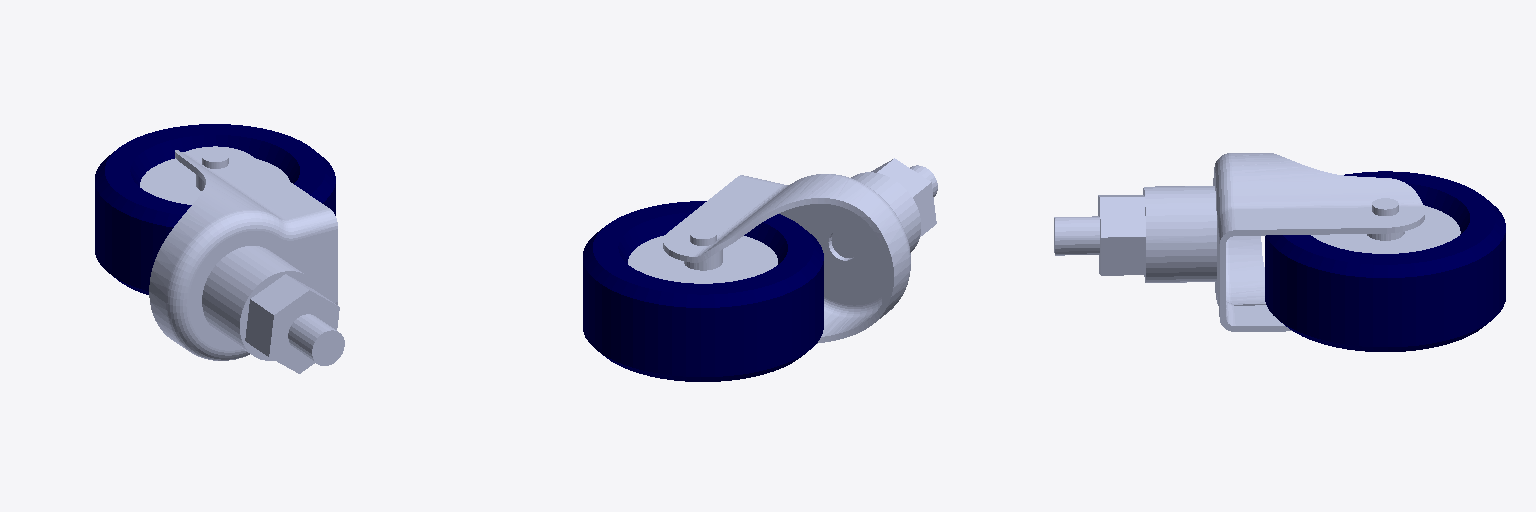
Rendered from caster_wheel.obj.
3 views of the same model, side by side, from view 1: azimuth 30°, elevation 25°; view 2: azimuth 150°, elevation 25°; view 3: azimuth 270°, elevation 25° (orthographic).
Parts seen in each view (by area): view 1: Body_2, _3DGeom_57, Body_1, _3DGeom_58; view 2: _3DGeom_57, Body_2, Body_1, _3DGeom_58; view 3: _3DGeom_57, Body_2, Body_1, _3DGeom_58.
Part boxes in pixels (bbox=[...]): Body_2: bbox=[149, 146, 337, 360]; _3DGeom_57: bbox=[95, 124, 335, 294]; Body_1: bbox=[202, 246, 344, 373]; _3DGeom_58: bbox=[140, 158, 289, 204]; _3DGeom_57: bbox=[583, 201, 823, 381]; Body_2: bbox=[663, 174, 910, 343]; Body_1: bbox=[831, 158, 937, 257]; _3DGeom_58: bbox=[628, 235, 777, 283]; _3DGeom_57: bbox=[1265, 171, 1505, 351]; Body_2: bbox=[1213, 153, 1424, 331]; Body_1: bbox=[1054, 186, 1216, 282]; _3DGeom_58: bbox=[1311, 205, 1460, 253].
Size of the model in its own units: 0.0836 by 0.05 by 0.1405.